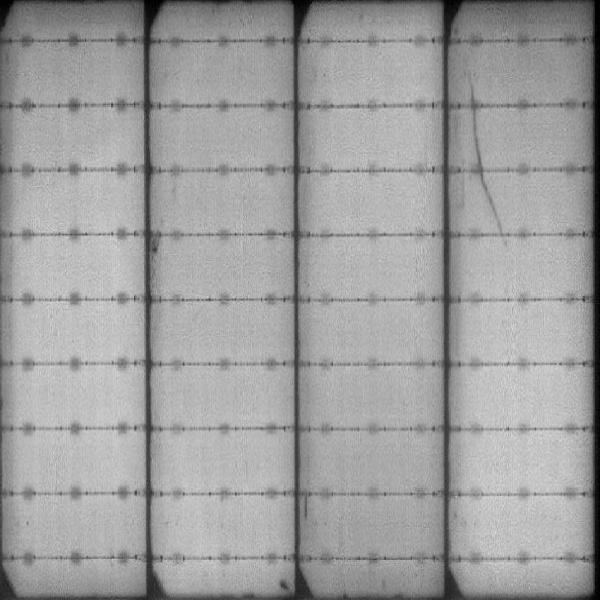scratch: (467, 81, 485, 168), (477, 177, 506, 231), (302, 493, 311, 523)
